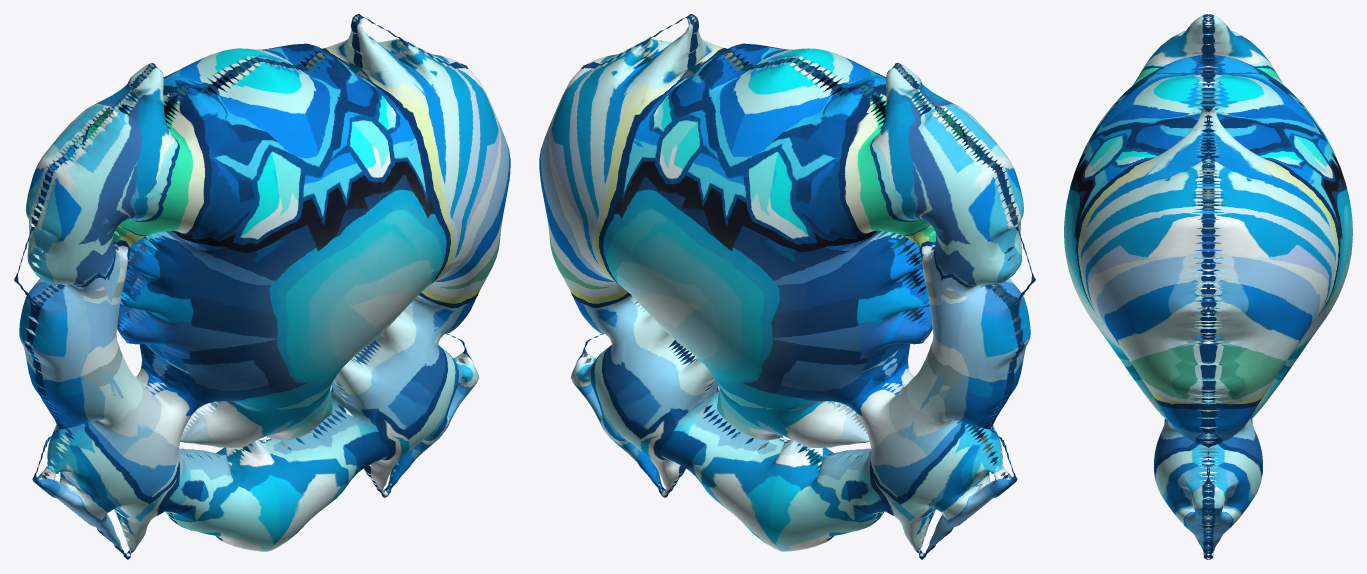
Rendered from ice_portal.glb.
3 renders of one model, left to right at view 1: azimuth 30°, elevation 25°; view 2: azimuth 150°, elevation 25°; view 3: azimuth 270°, elevation 25°, orthographic. The views are drawn at different scales.
Parts seen in each view (by area): view 1: ice_portal; view 2: ice_portal; view 3: ice_portal.
Boxes of the visible parts, bbox=[...] form: ice_portal: bbox=[14, 14, 510, 559]; ice_portal: bbox=[539, 14, 1035, 559]; ice_portal: bbox=[1064, 14, 1352, 559].
Size of the model in its own units: 0.9878 by 0.9979 by 0.5669.
1 material, 1 textured.
